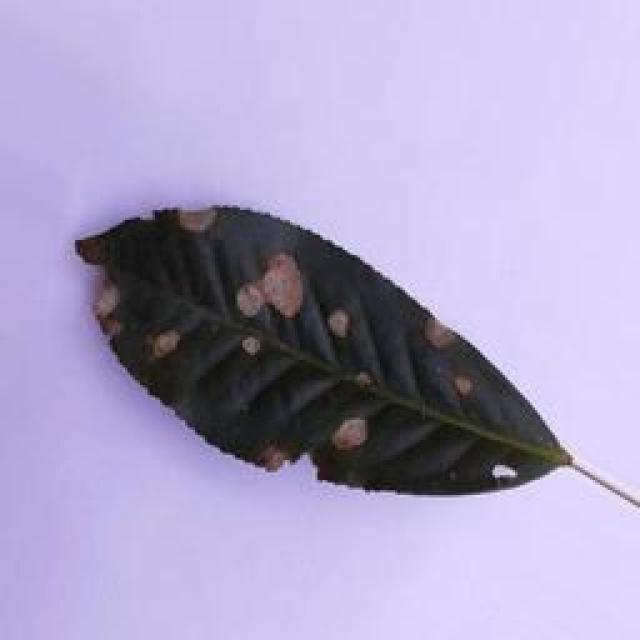Gray Blight: (77, 208, 640, 522)
